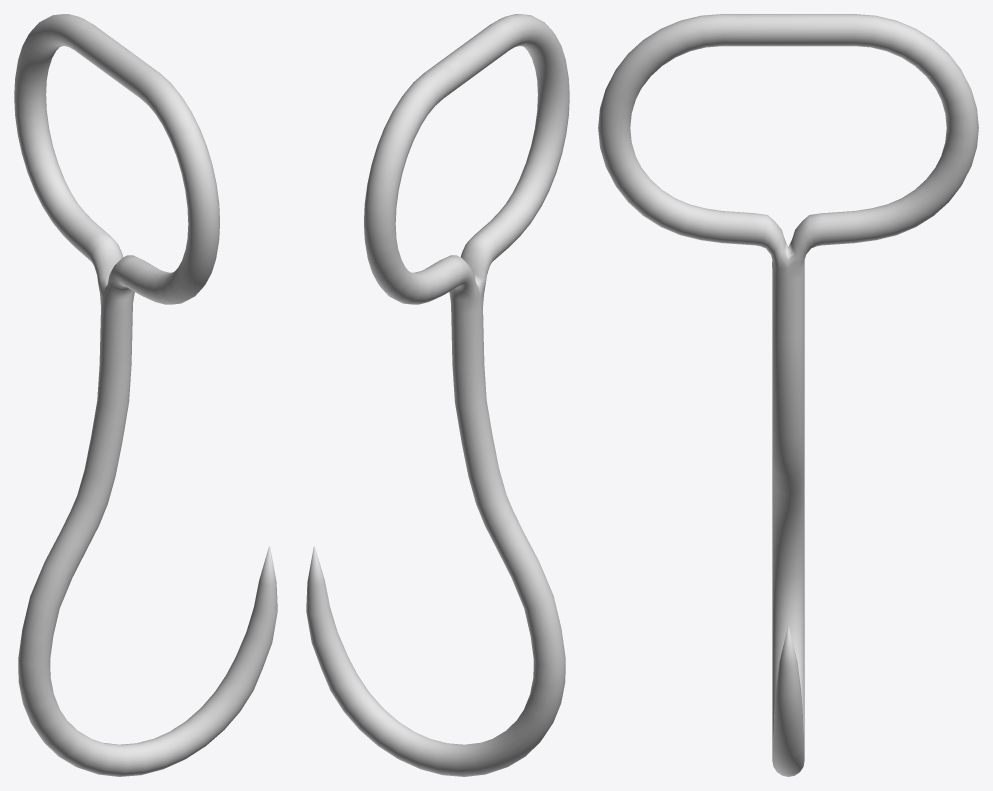
Rendered from meat_hook.glb.
The picture shows the model from 3 angles, left to right: view 1: azimuth 30°, elevation 25°; view 2: azimuth 150°, elevation 25°; view 3: azimuth 270°, elevation 25°; orthographic projection.
Parts seen in each view (by area): view 1: meat_hook; view 2: meat_hook; view 3: meat_hook.
Part boxes in pixels (bbox=[...]): meat_hook: bbox=[14, 14, 277, 776]; meat_hook: bbox=[306, 14, 569, 776]; meat_hook: bbox=[598, 14, 978, 776].
Bounding box in the file's own units: 0.3659 × 1 × 0.4707.
Materials: 1 (1 with a texture image).
